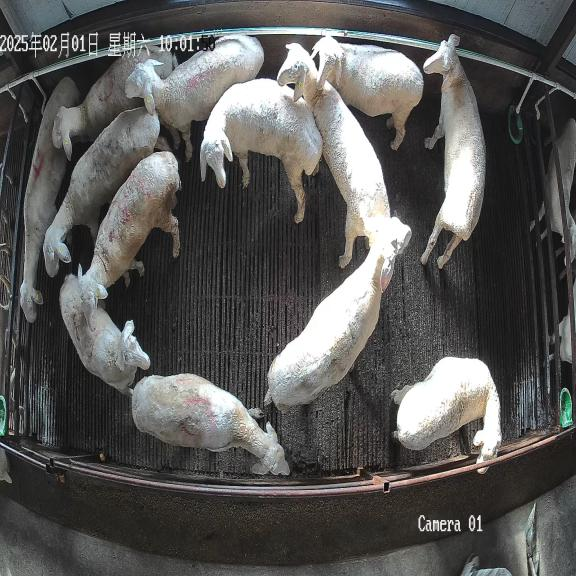stand: (265, 218, 411, 412), (277, 44, 389, 268), (43, 107, 171, 277), (78, 151, 180, 324), (200, 79, 322, 223), (125, 35, 264, 161), (131, 374, 289, 475), (421, 34, 485, 269), (20, 77, 79, 322), (52, 46, 177, 159), (310, 36, 423, 150), (392, 357, 501, 462), (59, 274, 150, 396)
